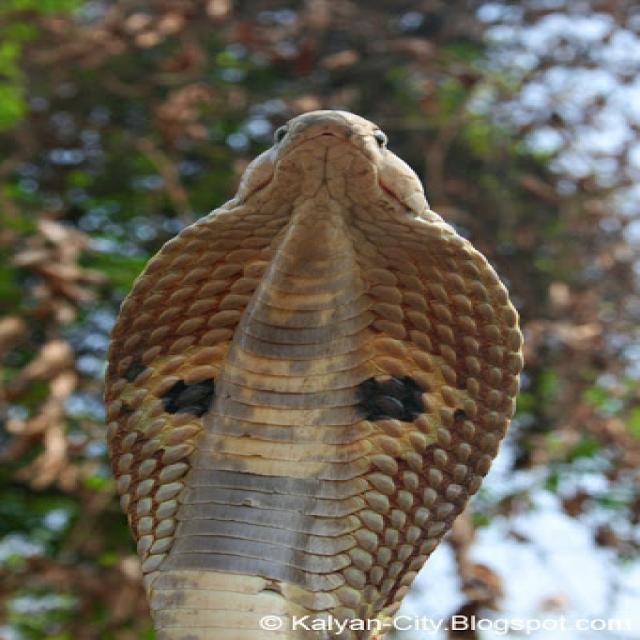Snake: (102, 107, 526, 638)
